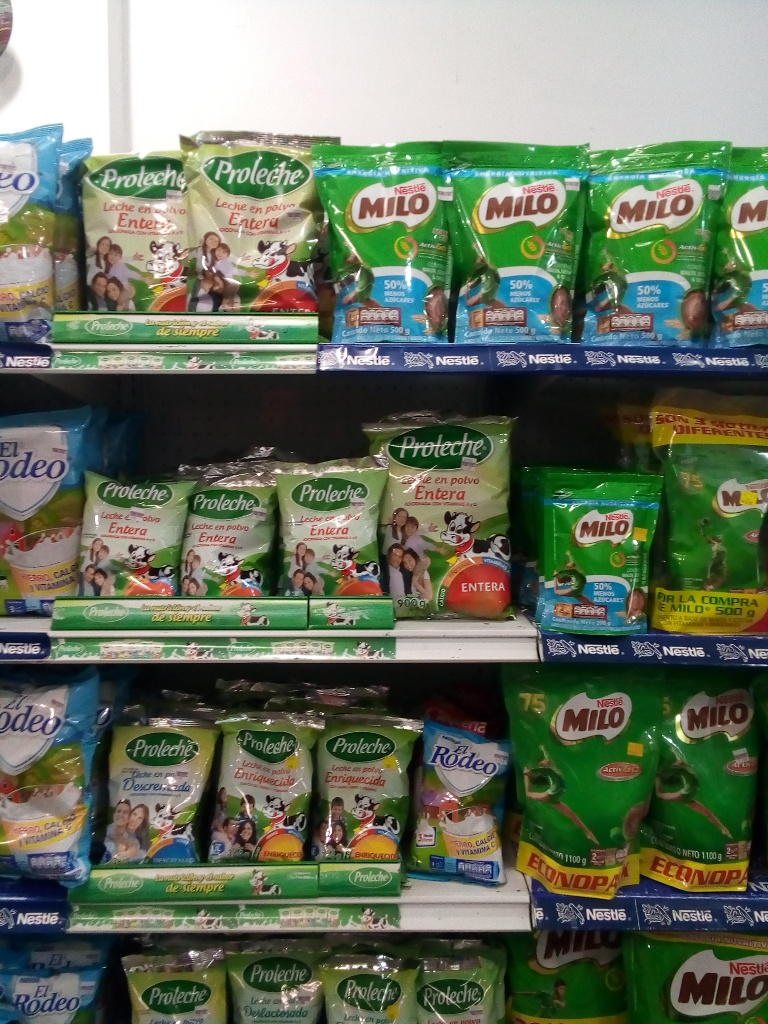COL0170203DYP50000: (651, 398, 768, 601)
COL0170205DYP20000: (539, 461, 654, 627)
COL0170205DYP50000: (444, 134, 583, 350)
